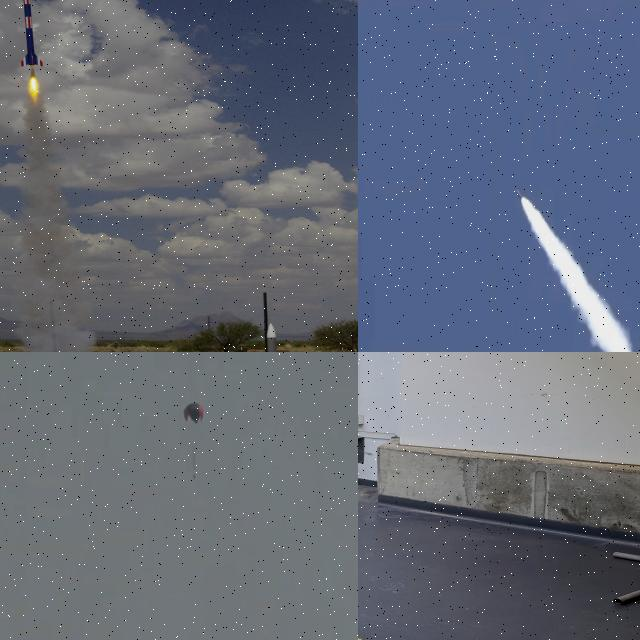Rocket: (20, 0, 42, 67), (261, 323, 285, 352), (516, 188, 524, 201), (192, 447, 195, 480)
